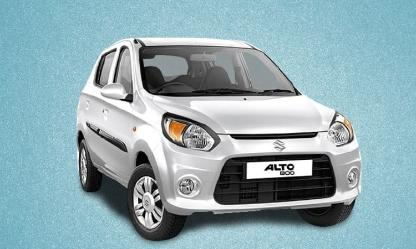car: (72, 37, 364, 237)
